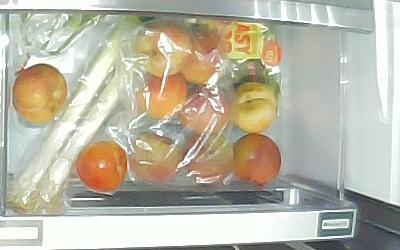prune: (12, 61, 69, 124), (227, 81, 278, 133), (77, 140, 127, 193), (233, 133, 282, 186)
prune_vinyl: (134, 21, 191, 77), (129, 131, 183, 185), (184, 132, 234, 186), (134, 71, 187, 118), (179, 86, 229, 134), (182, 32, 224, 86)
